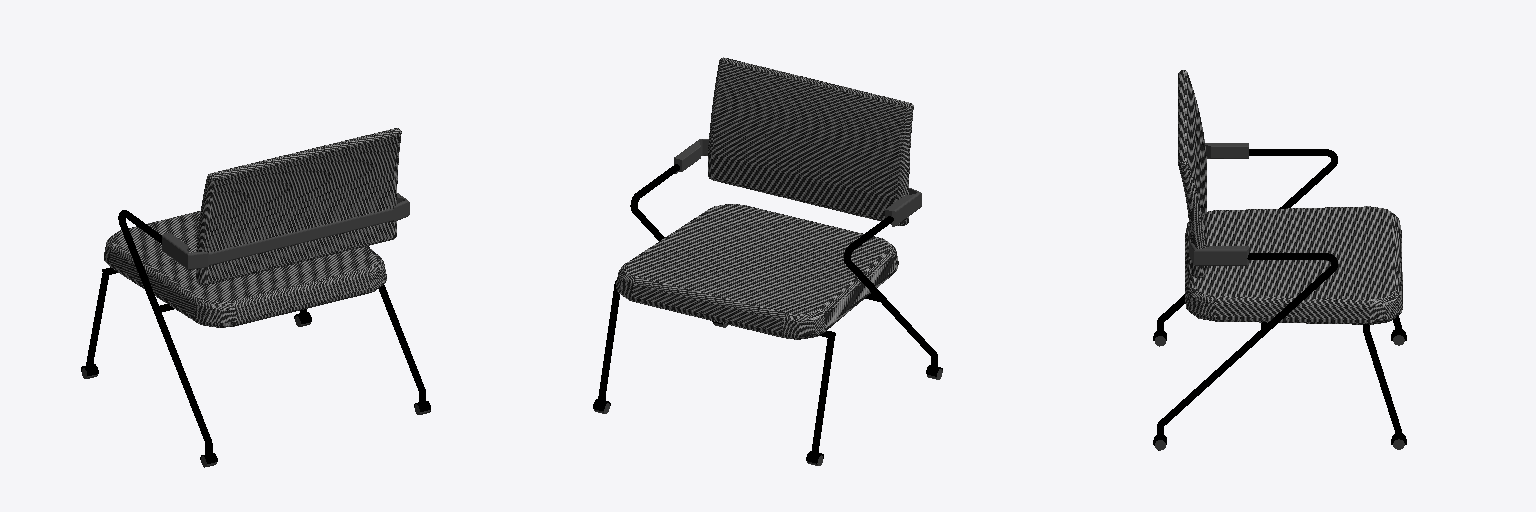
3 views of the same model, side by side, from view 1: azimuth 30°, elevation 25°; view 2: azimuth 150°, elevation 25°; view 3: azimuth 270°, elevation 25° (orthographic).
Parts seen in each view (by area): view 1: 솔리드1:3, 솔리드1, 솔리드1:1, 솔리드1:2; view 2: 솔리드1:3, 솔리드1, 솔리드1:1, 솔리드1:2; view 3: 솔리드1, 솔리드1:3, 솔리드1:1, 솔리드1:2.
Part boxes in pixels (x1,y1,x2,y2): 솔리드1:3: (162, 128, 409, 284); 솔리드1: (104, 211, 386, 327); 솔리드1:1: (118, 210, 430, 467); 솔리드1:2: (81, 267, 311, 378); 솔리드1:3: (674, 57, 921, 226); 솔리드1: (616, 204, 898, 339); 솔리드1:1: (630, 164, 942, 379); 솔리드1:2: (593, 280, 835, 465); 솔리드1: (1185, 206, 1402, 324); 솔리드1:3: (1178, 70, 1248, 277); 솔리드1:1: (1153, 149, 1337, 450); 솔리드1:2: (1363, 316, 1406, 449).
Size of the model in its own units: 31.03 by 37.06 by 30.34.
3 materials, 1 textured.